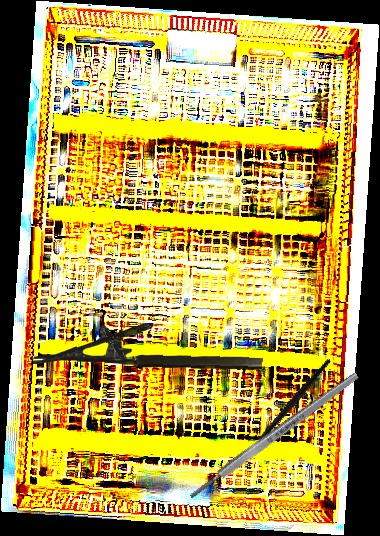Chopper: (224, 357, 355, 463)
Needle Holder: (33, 319, 264, 372)
Scalpel Handle: (187, 370, 361, 502)
